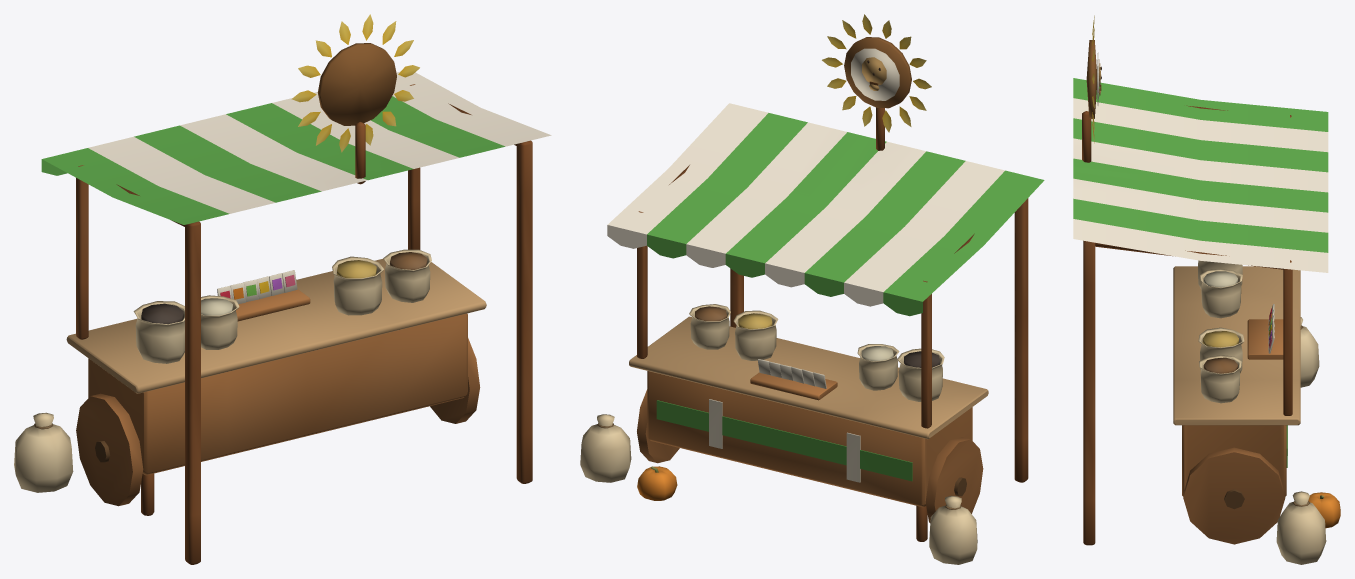
The picture shows the model from 3 angles, left to right: view 1: azimuth 30°, elevation 25°; view 2: azimuth 150°, elevation 25°; view 3: azimuth 270°, elevation 25°; orthographic projection. The views are drawn at different scales.
Visible parts, largest first — view 1: seed_stall; view 2: seed_stall; view 3: seed_stall.
Boxes of the visible parts, left/top/right/bottom form: seed_stall: left=14, top=14, right=551, bottom=564; seed_stall: left=580, top=14, right=1044, bottom=564; seed_stall: left=1073, top=15, right=1340, bottom=564.
Size of the model in its own units: 3.53 by 3.71 by 1.99.
